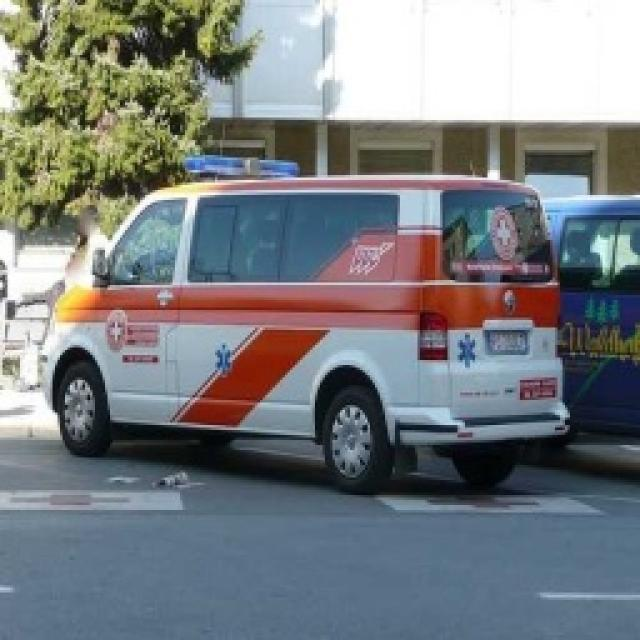ambulance: (38, 158, 568, 490), (527, 172, 640, 465), (0, 232, 70, 452)
